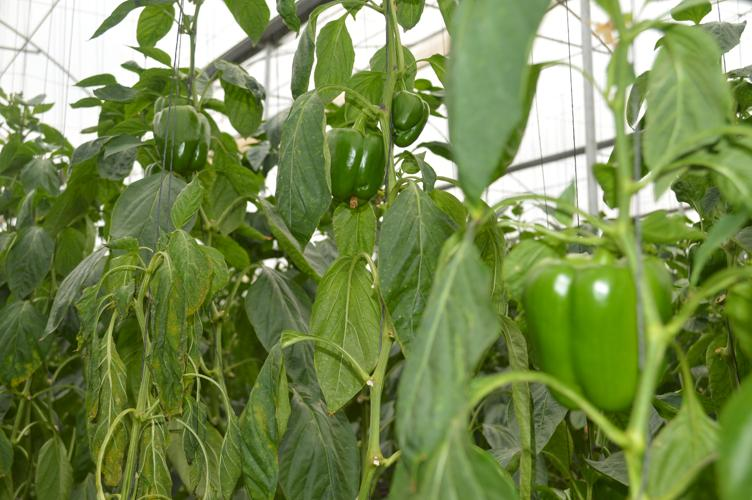BellPepper: (523, 257, 675, 409), (325, 126, 385, 204), (154, 107, 207, 169), (394, 91, 429, 146)
